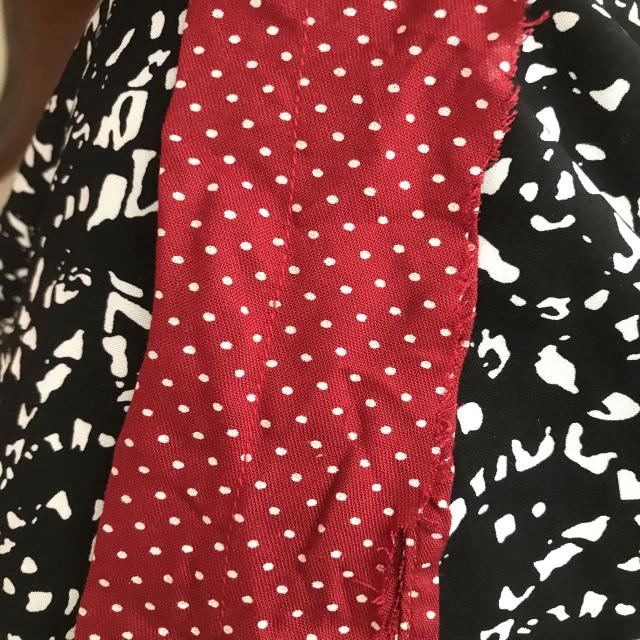good: (273, 55, 303, 204)
